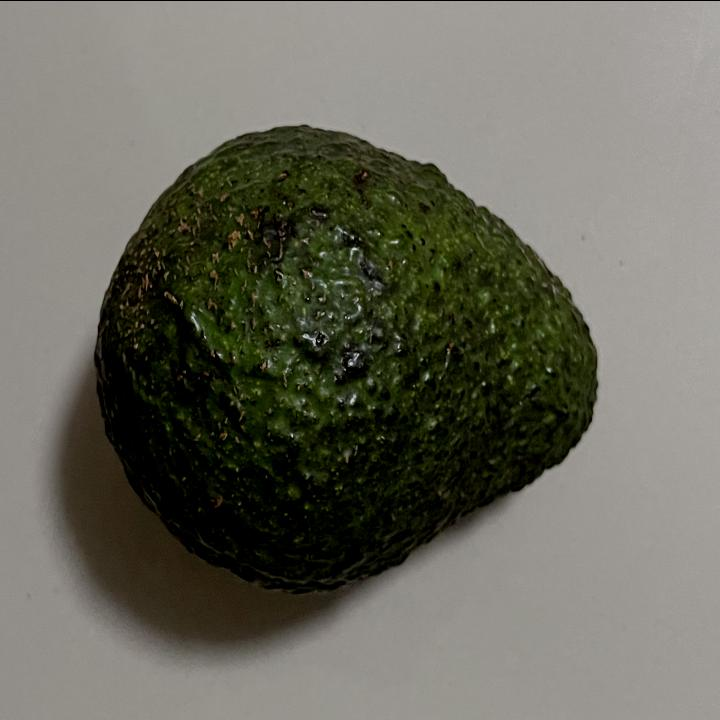Level1: (82, 115, 606, 606)
